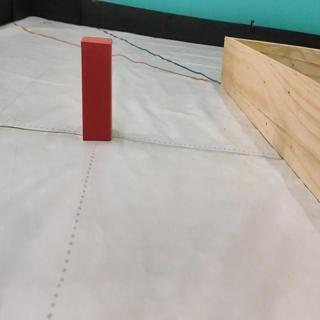redbox: (81, 35, 112, 142)
